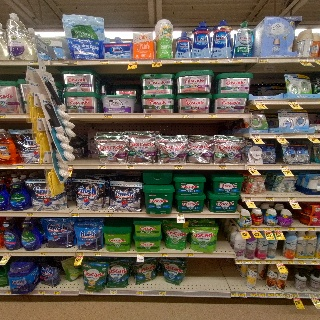All PRICE TAGS: (228, 59, 242, 63), (27, 60, 38, 65), (24, 212, 34, 217), (68, 60, 78, 65), (298, 57, 308, 62), (208, 113, 217, 118), (16, 164, 25, 169), (259, 58, 268, 63), (276, 292, 283, 298), (309, 293, 317, 298), (266, 197, 274, 202), (152, 60, 162, 64), (128, 60, 138, 64), (109, 290, 117, 295), (71, 212, 79, 217), (103, 114, 113, 118), (312, 57, 320, 62), (174, 59, 184, 63), (208, 59, 218, 63), (254, 260, 263, 264), (244, 197, 253, 201), (251, 134, 260, 138), (190, 59, 199, 63), (100, 60, 109, 64), (218, 165, 227, 169), (125, 165, 134, 169), (144, 114, 153, 118), (292, 293, 299, 298), (268, 292, 275, 297), (250, 292, 257, 297), (239, 292, 246, 297), (230, 292, 237, 297), (53, 290, 60, 295), (308, 227, 316, 231), (288, 227, 296, 231), (273, 227, 281, 231), (263, 227, 271, 231), (251, 227, 259, 231), (239, 227, 247, 231), (288, 197, 296, 201), (247, 165, 255, 169), (280, 165, 288, 169), (275, 134, 283, 138), (255, 100, 263, 104), (76, 252, 84, 256), (176, 214, 184, 218), (105, 213, 113, 217), (174, 165, 182, 169), (98, 165, 106, 169), (181, 114, 189, 118), (285, 293, 291, 298), (39, 290, 45, 295), (259, 293, 266, 297), (265, 260, 272, 264), (275, 260, 282, 264), (158, 291, 165, 295), (136, 291, 143, 295), (86, 290, 93, 294), (187, 253, 194, 257), (137, 253, 144, 257), (306, 134, 315, 137), (288, 100, 297, 103), (245, 260, 253, 263), (298, 261, 306, 264), (5, 252, 11, 256), (40, 252, 46, 256), (161, 253, 167, 257), (311, 261, 318, 264), (287, 261, 294, 264), (94, 253, 101, 256), (68, 165, 73, 169), (7, 290, 11, 295), (236, 260, 242, 263)
